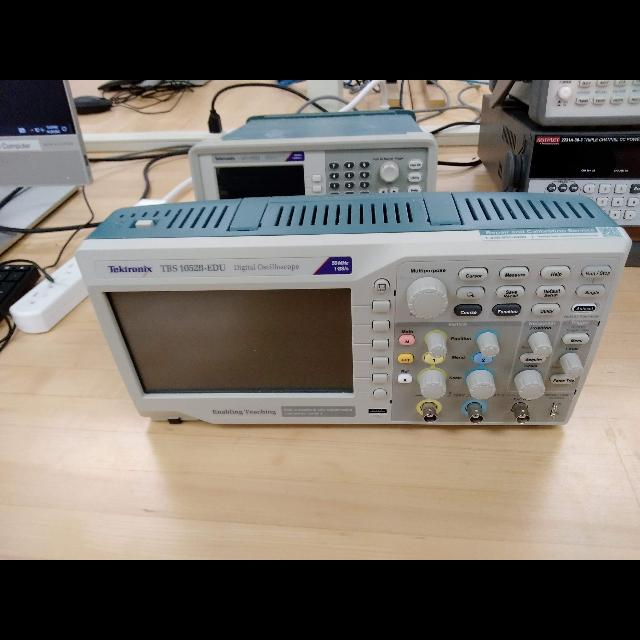Digital-Oscilloscope: (77, 235, 630, 424)
